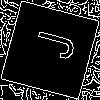J: (25, 25, 77, 62)
